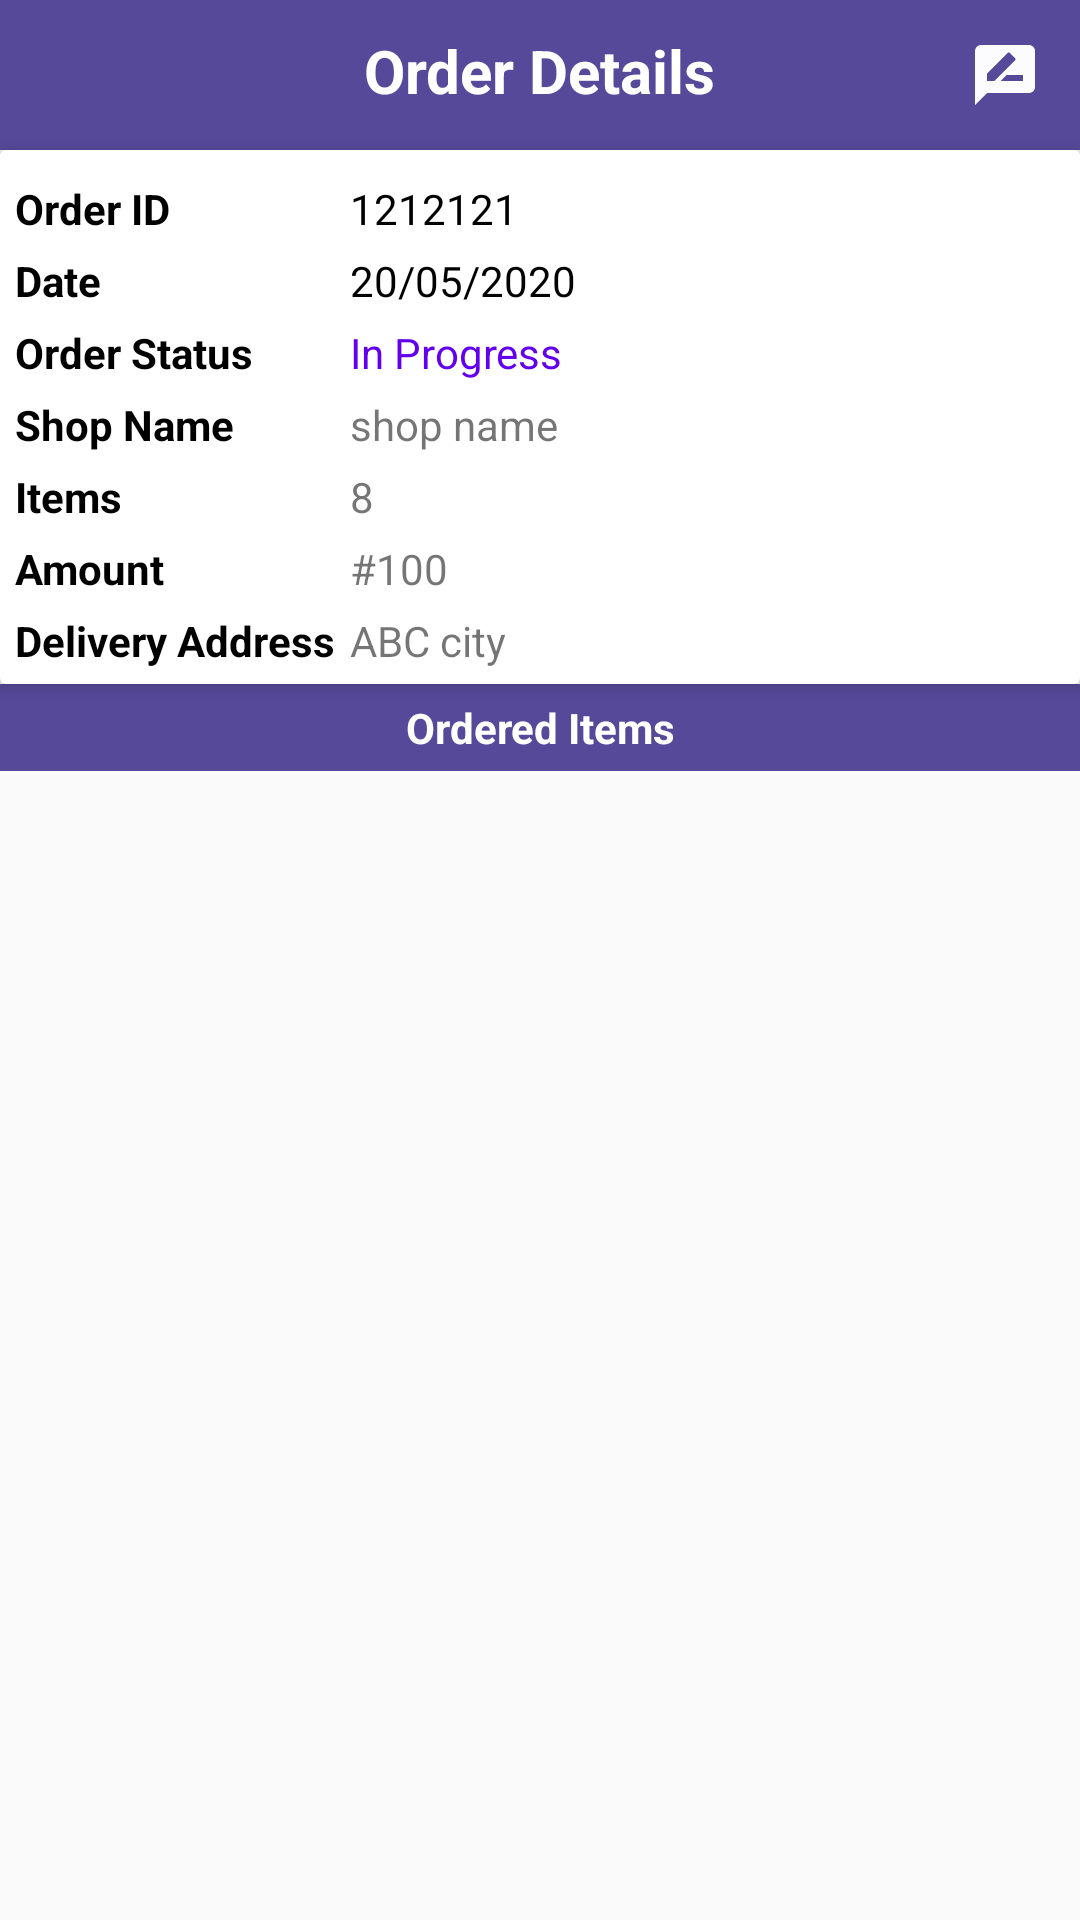

Named icons in this screenshot (1080w x 1920h) and their centers, (x,y):
rate review: (1005,75)
